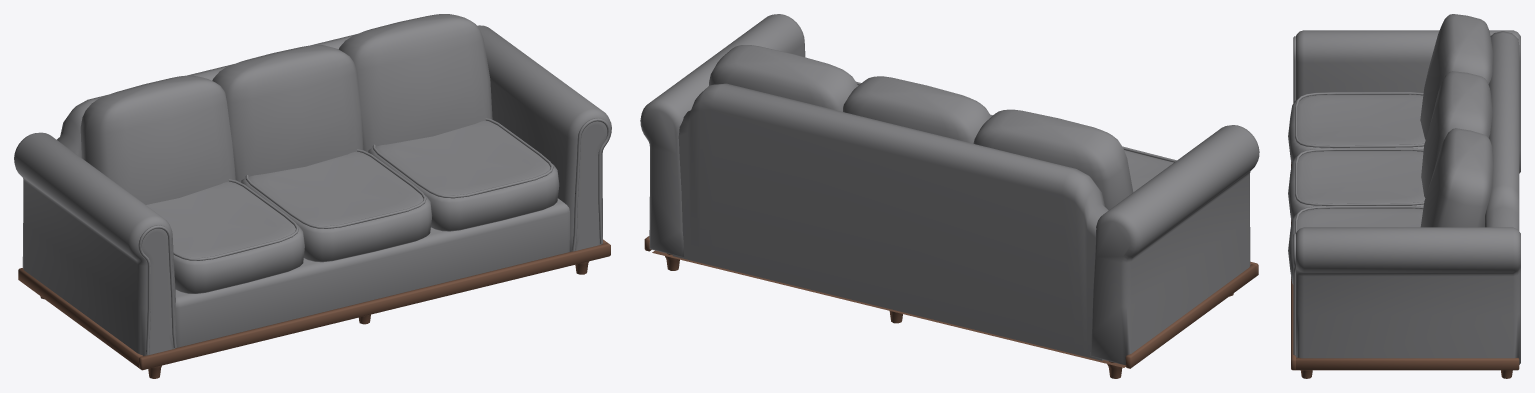
The model's file is Kit_Sofa3_Charcoal.fbx.
3 renders of one model, left to right at view 1: azimuth 30°, elevation 25°; view 2: azimuth 150°, elevation 25°; view 3: azimuth 270°, elevation 25°, orthographic. The views are drawn at different scales.
Parts seen in each view (by area): view 1: Kit_Sofa3_LOD0; view 2: Kit_Sofa3_LOD0; view 3: Kit_Sofa3_LOD0.
Part boxes in pixels (<box>): Kit_Sofa3_LOD0: <box>14,14,611,378</box>; Kit_Sofa3_LOD0: <box>640,14,1259,378</box>; Kit_Sofa3_LOD0: <box>1288,14,1520,378</box>.
Size of what is drawn, in the model's own units: 2 by 0.8221 by 0.908.
